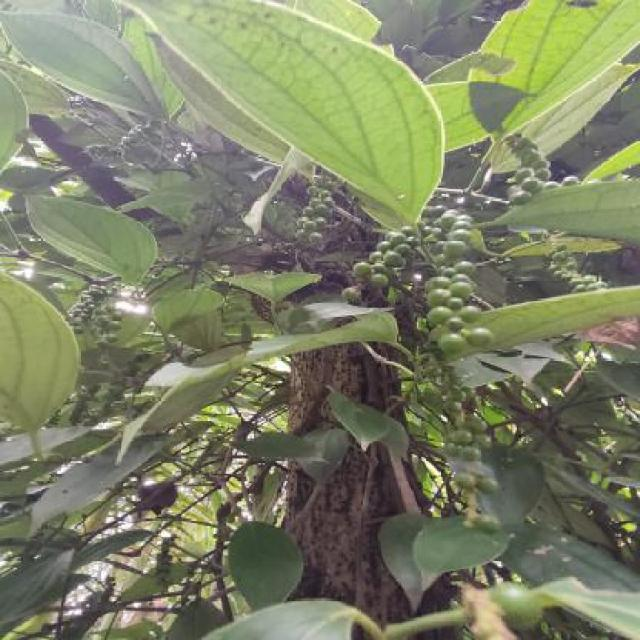UNRIPE: (426, 210, 492, 352), (443, 375, 500, 532), (340, 225, 420, 300), (504, 131, 553, 204), (70, 285, 124, 348), (548, 244, 608, 293), (296, 179, 336, 242), (86, 131, 149, 157), (156, 536, 182, 576)
